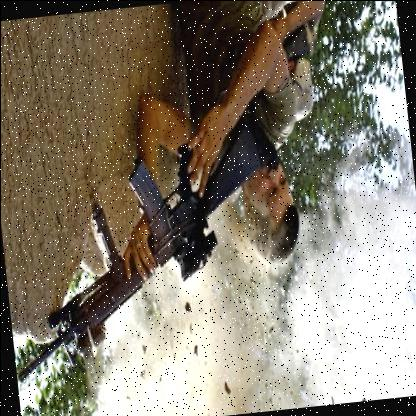rifle: (0, 99, 286, 388)
